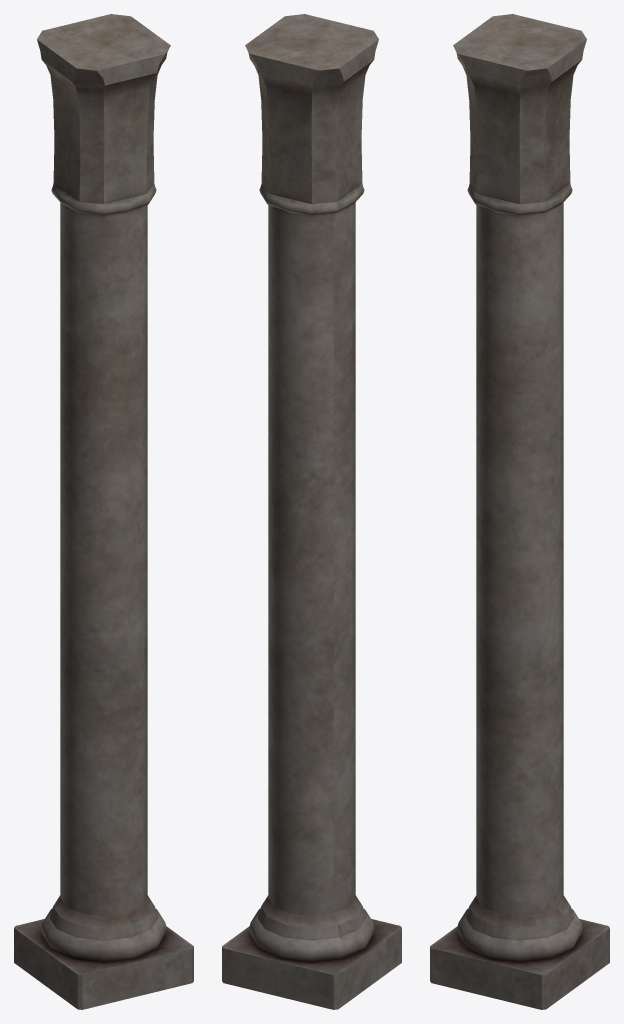
The model's file is sb_obj_outdoor009_AncientTemple_pillar03A.fbx.
3 renders of one model, left to right at view 1: azimuth 30°, elevation 25°; view 2: azimuth 150°, elevation 25°; view 3: azimuth 330°, elevation 25°, orthographic.
Parts seen in each view (by area): view 1: sb_obj_outdoor009_AncientTemple_pillar03A; view 2: sb_obj_outdoor009_AncientTemple_pillar03A; view 3: sb_obj_outdoor009_AncientTemple_pillar03A.
Boxes of the visible parts, bbox=[...] form: sb_obj_outdoor009_AncientTemple_pillar03A: bbox=[14, 14, 193, 1009]; sb_obj_outdoor009_AncientTemple_pillar03A: bbox=[222, 14, 401, 1009]; sb_obj_outdoor009_AncientTemple_pillar03A: bbox=[430, 14, 609, 1009].
Bounding box in the file's own units: 1.05 × 8.01 × 1.05.
